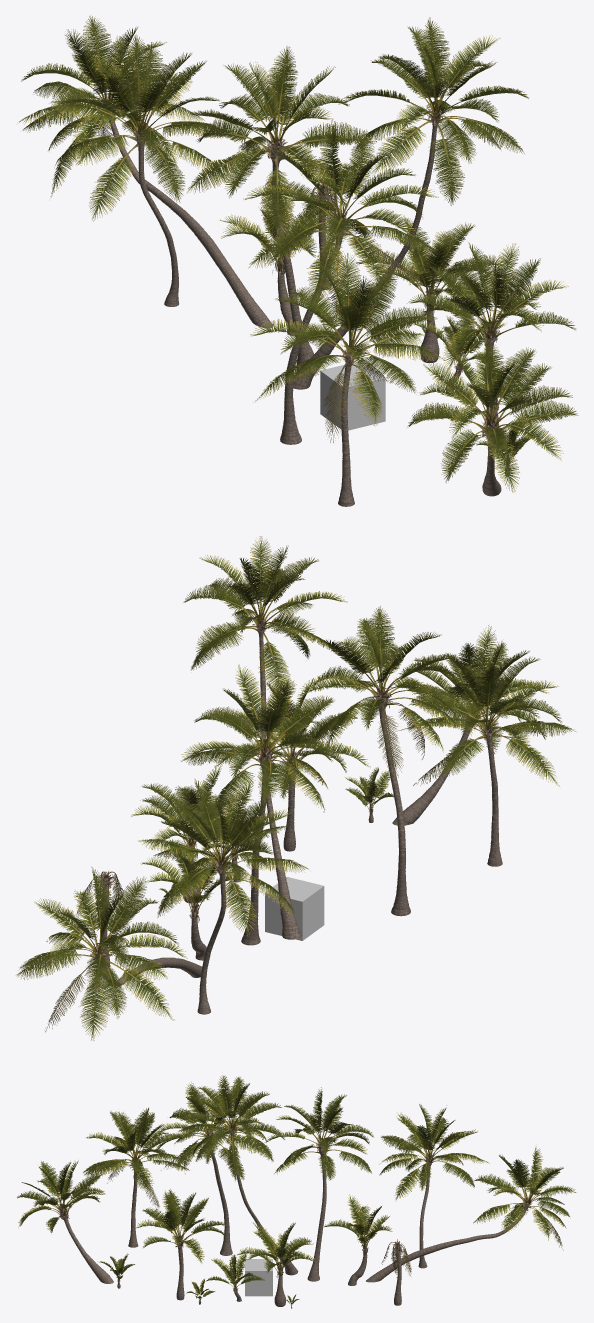
File: palm.obj
3 views of the same model, one above another, from view 1: azimuth 30°, elevation 25°; view 2: azimuth 150°, elevation 25°; view 3: azimuth 270°, elevation 25° (orthographic). The views are drawn at different scales.
Parts seen in each view (by area): view 1: Palm_ALL_Palm_L_Mat_0, Palm_ALL_PalmD_T_Mat_0, Palm_ALL_Palm_T_Mat_0, Cube; view 2: Palm_ALL_Palm_L_Mat_0, Palm_ALL_PalmD_T_Mat_0, Palm_ALL_Palm_T_Mat_0, Cube; view 3: Palm_ALL_Palm_L_Mat_0, Palm_ALL_PalmD_T_Mat_0, Palm_ALL_Palm_T_Mat_0, Cube.
Boxes of the visible parts, bbox=[...] form: Palm_ALL_Palm_L_Mat_0: bbox=[19, 16, 578, 492]; Palm_ALL_PalmD_T_Mat_0: bbox=[159, 194, 509, 506]; Palm_ALL_Palm_T_Mat_0: bbox=[108, 113, 507, 482]; Cube: bbox=[320, 361, 385, 430]; Palm_ALL_Palm_L_Mat_0: bbox=[16, 536, 575, 1040]; Palm_ALL_PalmD_T_Mat_0: bbox=[103, 787, 502, 1014]; Palm_ALL_Palm_T_Mat_0: bbox=[96, 622, 498, 985]; Cube: bbox=[265, 877, 324, 940]; Palm_ALL_Palm_L_Mat_0: bbox=[17, 1075, 576, 1306]; Palm_ALL_PalmD_T_Mat_0: bbox=[86, 1213, 475, 1308]; Palm_ALL_Palm_T_Mat_0: bbox=[61, 1128, 528, 1299]; Cube: bbox=[245, 1259, 272, 1296].
Size of the model in its own units: 17.48 by 18.13 by 40.42.
4 materials, 3 textured.
